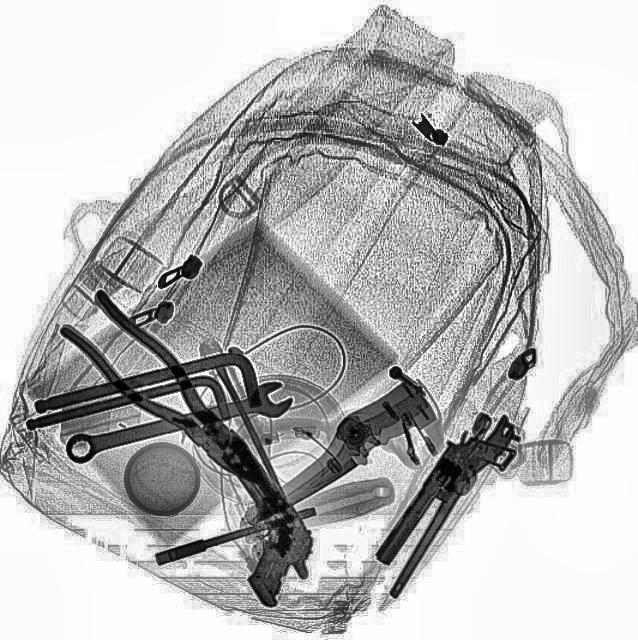Gun: (160, 424, 338, 610), (366, 418, 518, 588)
Pliers: (52, 286, 288, 504)
Wrench: (60, 375, 298, 463)
